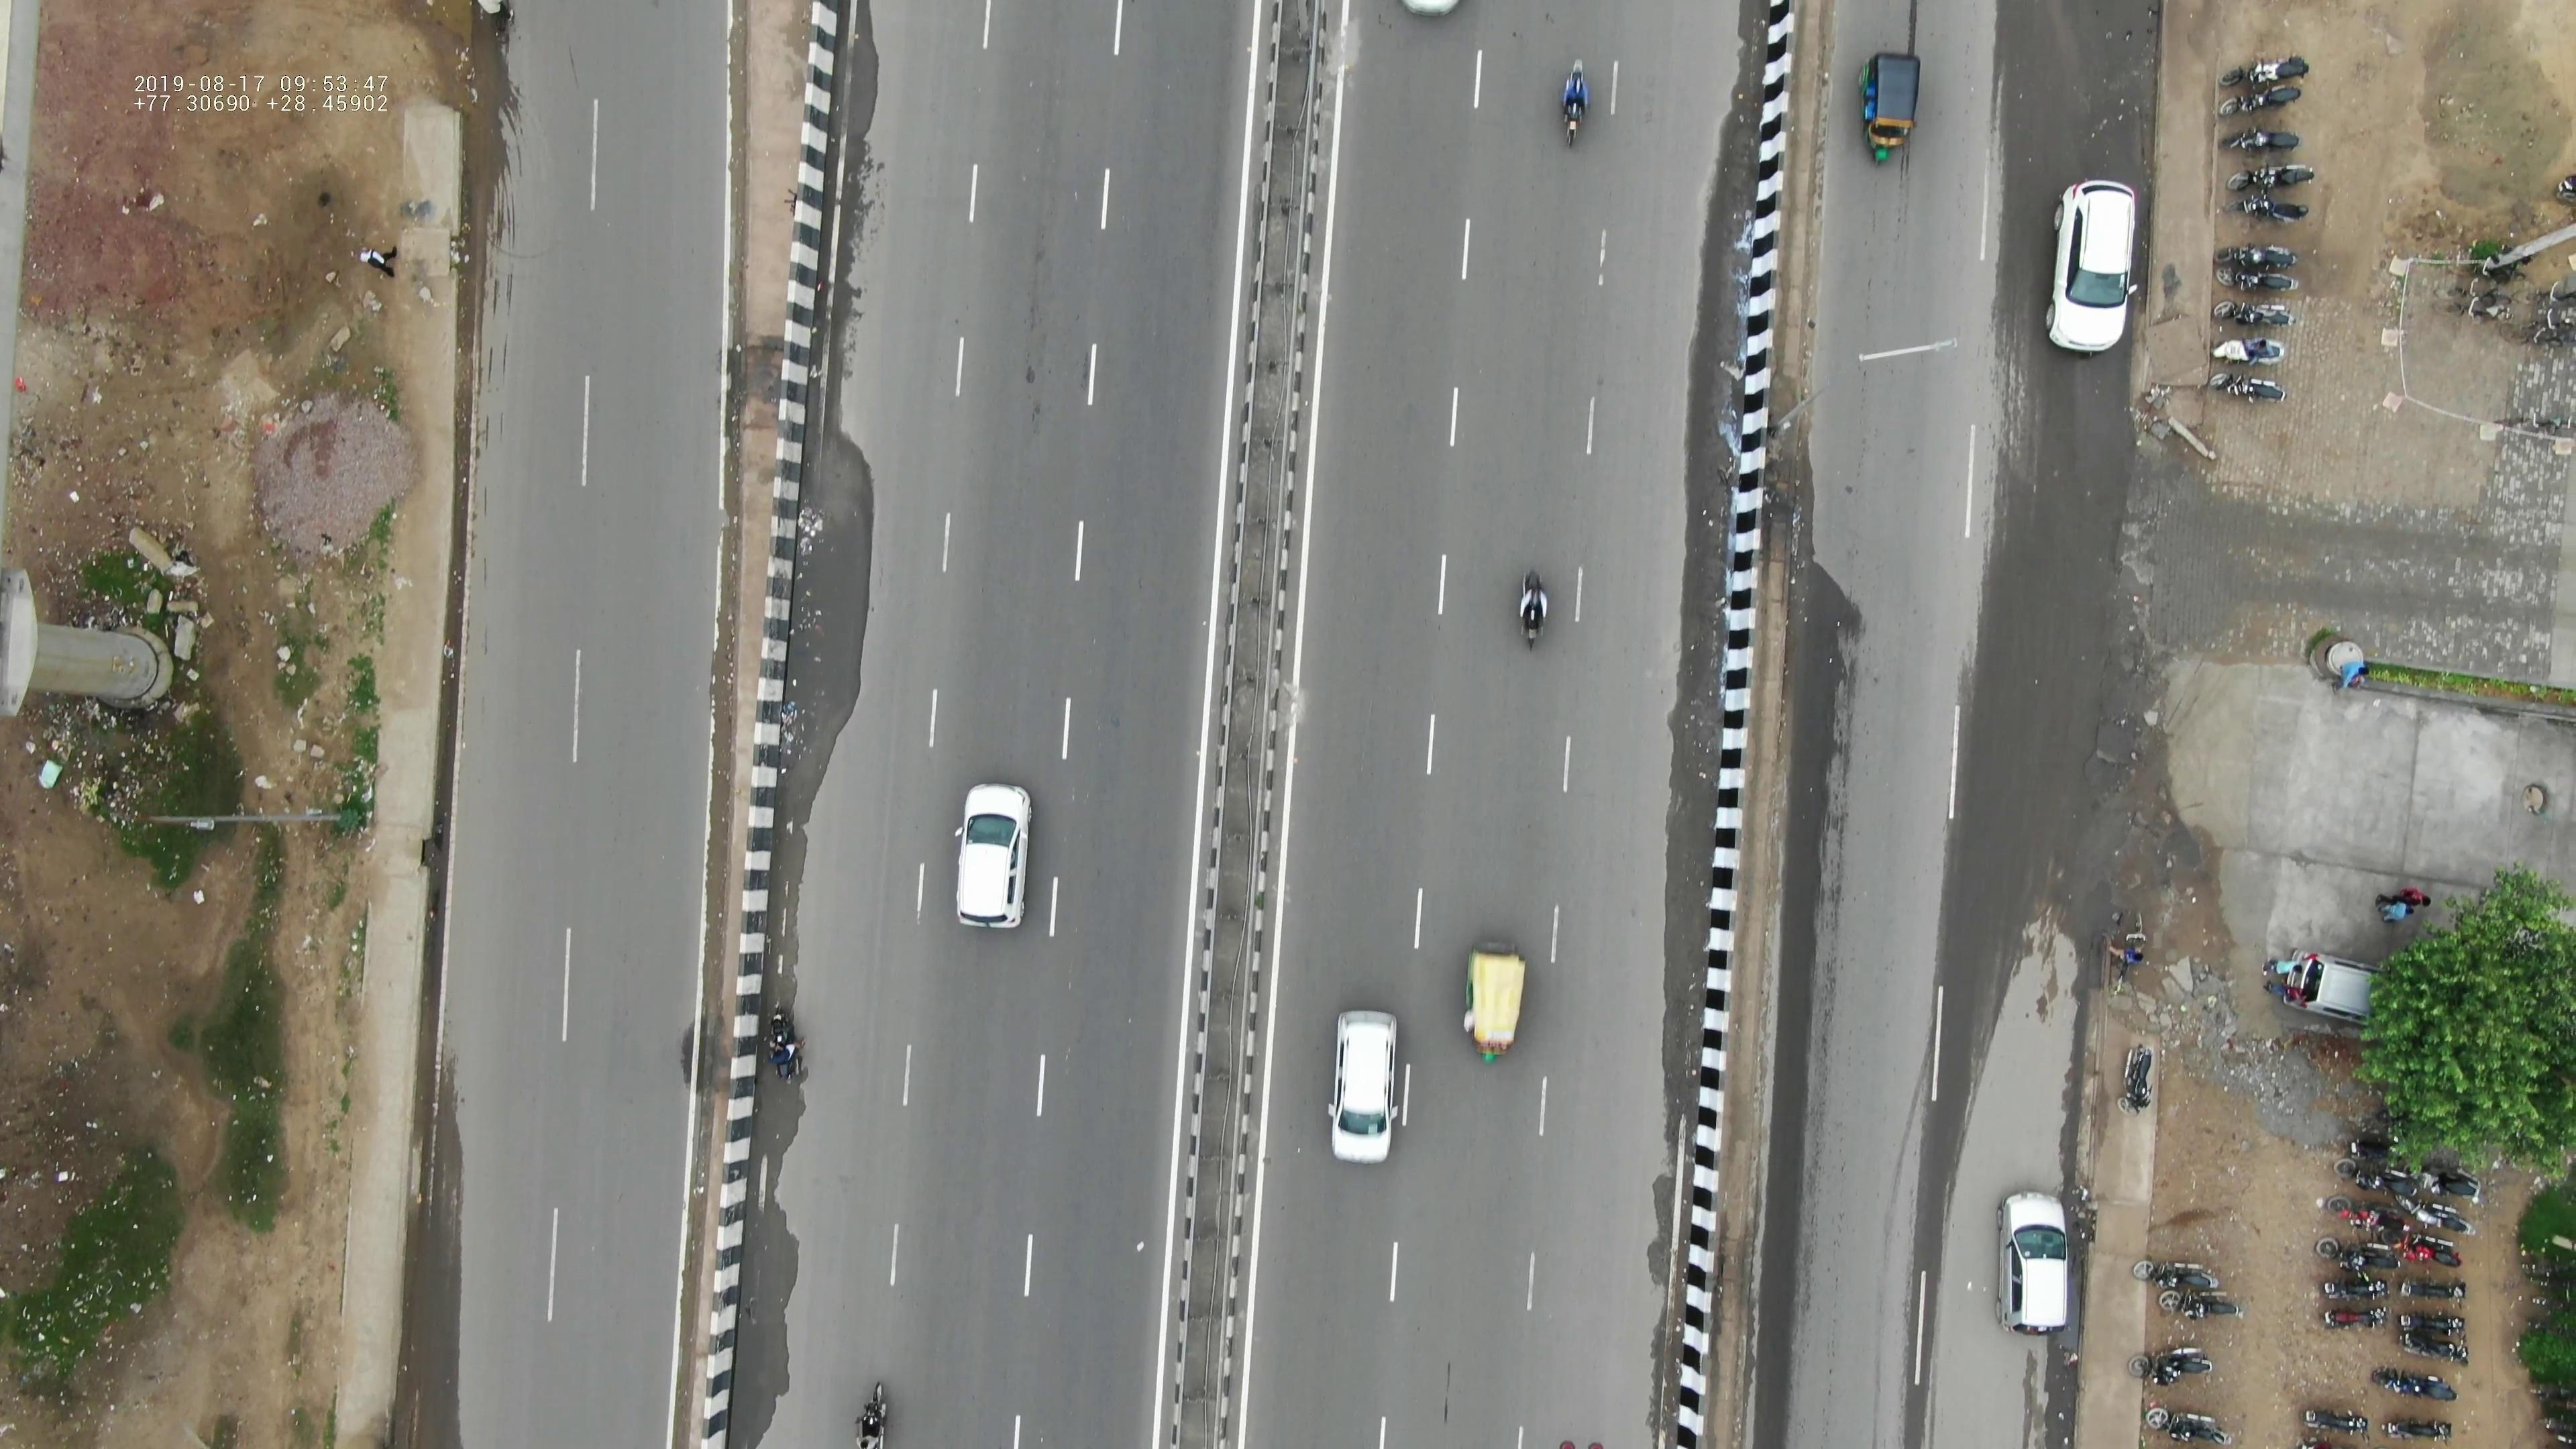Waterlogging: (1962, 515, 2199, 941), (778, 398, 904, 793)
